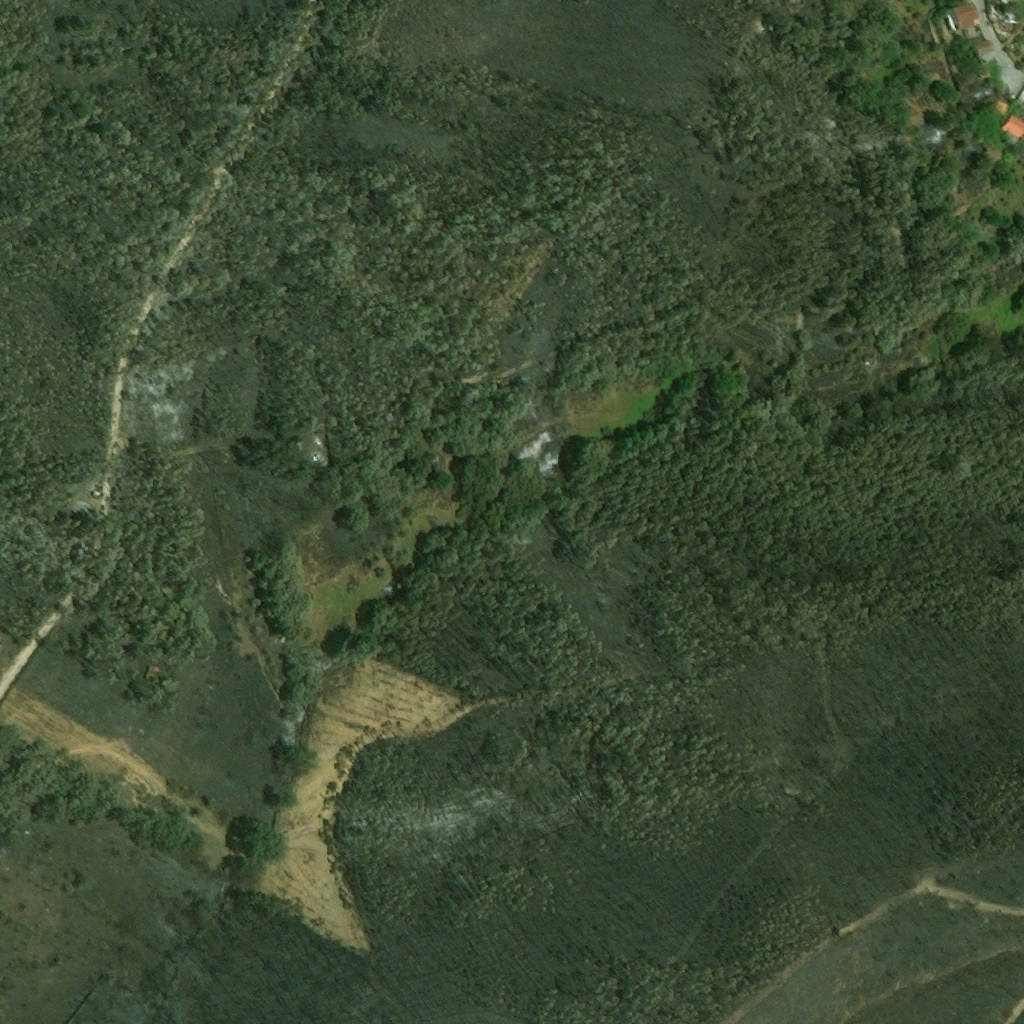0 no-damage: (952, 1, 983, 28), (973, 38, 997, 62), (1004, 114, 1023, 138), (995, 98, 1011, 115), (146, 663, 160, 677), (995, 48, 1004, 62)
3 destroyed: (988, 7, 1019, 32), (307, 434, 327, 465)
4 un-classified: (79, 503, 92, 513), (761, 25, 767, 30)
